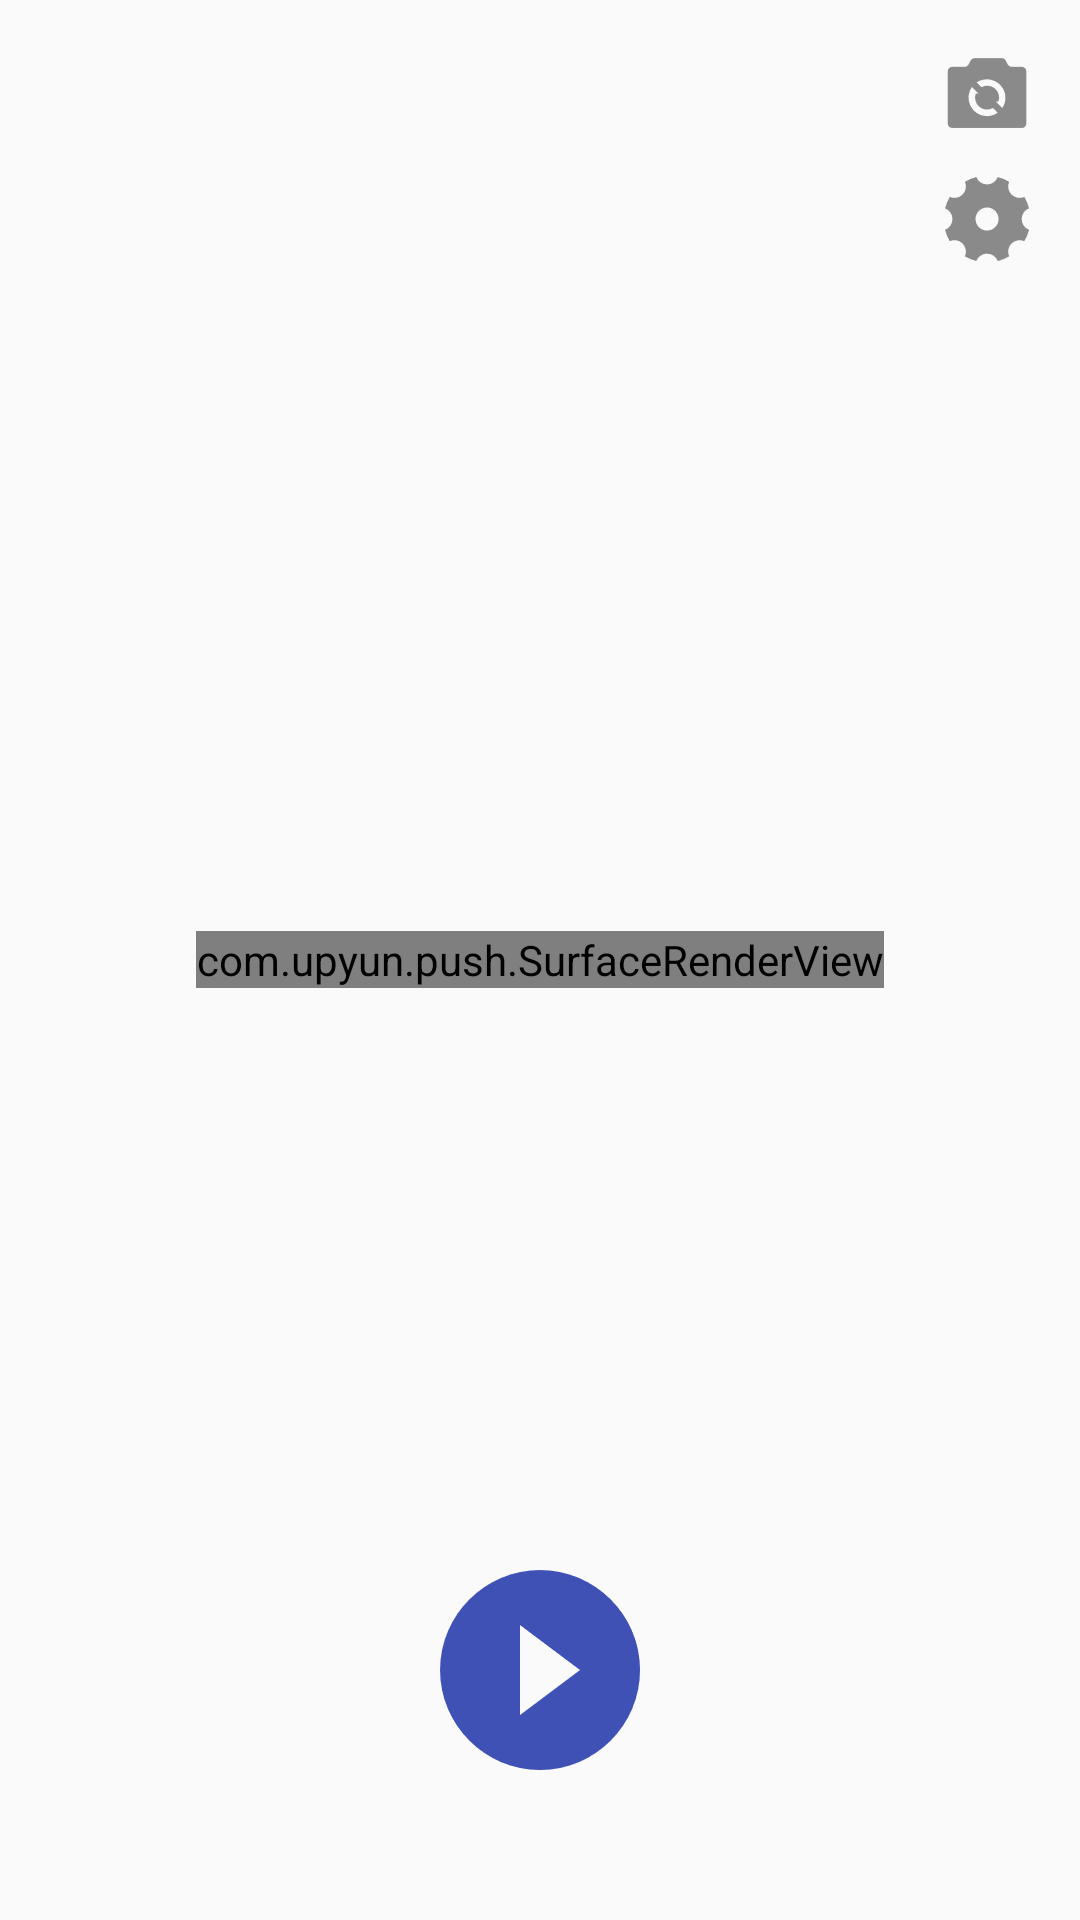

Named icons in this screenshot (1080*1920) and their bounding boxes, bbox(x1, y1, x2, y2):
camera: bbox(947, 58, 1027, 128)
setting: bbox(945, 177, 1029, 261)
start: bbox(440, 1570, 640, 1770)
